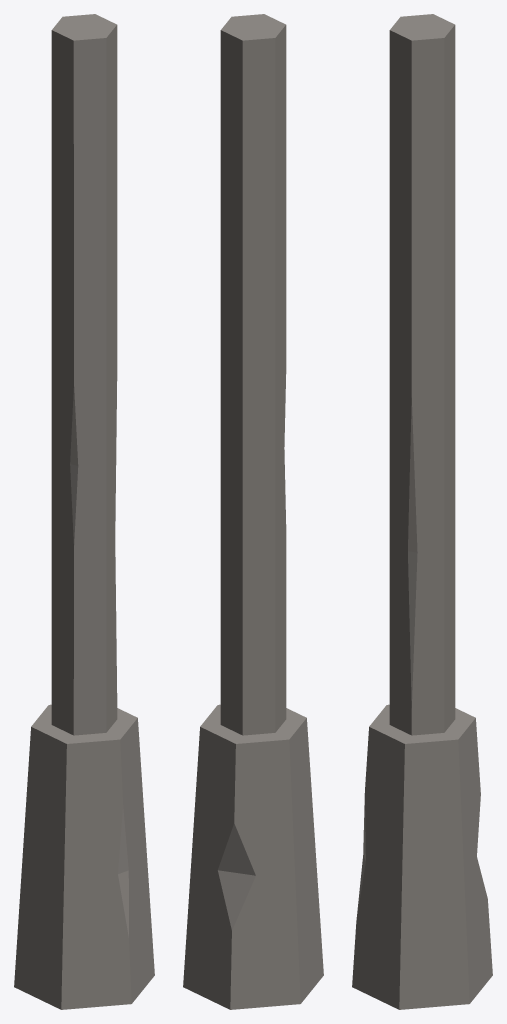
The model's file is SM_Env_Pillar_08.fbx.
The picture shows the model from 3 angles, left to right: view 1: azimuth 30°, elevation 25°; view 2: azimuth 150°, elevation 25°; view 3: azimuth 270°, elevation 25°; orthographic projection.
Visible parts, largest first — view 1: SM_Env_Pillar_08; view 2: SM_Env_Pillar_08; view 3: SM_Env_Pillar_08.
Part boxes in pixels (box(x1,y1,x2,y2)): SM_Env_Pillar_08: box(14, 14, 154, 1009); SM_Env_Pillar_08: box(183, 14, 323, 1009); SM_Env_Pillar_08: box(352, 14, 492, 1009).
Size of the model in its own units: 26.53 by 205 by 27.49.
Materials: 1 (1 with a texture image).
